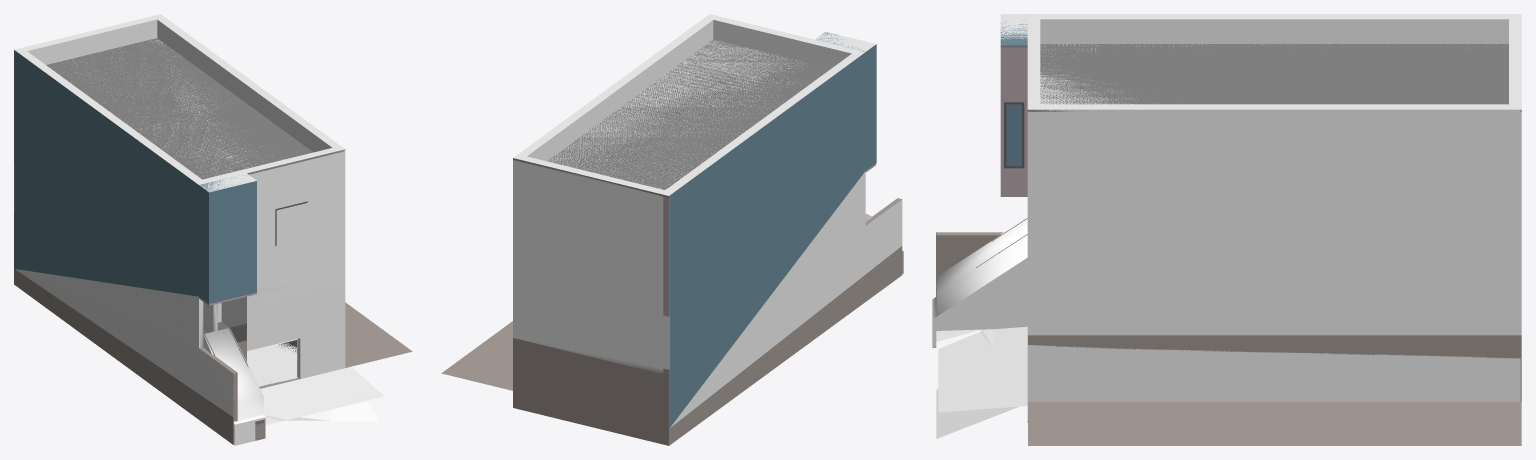
The model's file is s_otb_bld_inst_013.dae.
3 views of the same model, side by side, from view 1: azimuth 30°, elevation 25°; view 2: azimuth 150°, elevation 25°; view 3: azimuth 270°, elevation 25° (orthographic). The views are drawn at different scales.
Parts seen in each view (by area): view 1: Colmesh_s_bld_inst_013-1, s_bld_inst_013_L150, s_bld_inst_013_L500; view 2: s_bld_inst_013_L150, Colmesh_s_bld_inst_013-1, s_bld_inst_013_L500; view 3: s_bld_inst_013_L150, Colmesh_s_bld_inst_013-1, s_bld_inst_013_L500.
Boxes of the visible parts, x1,y1,x2,y2 form: Colmesh_s_bld_inst_013-1: (14,16,384,445); s_bld_inst_013_L150: (14,14,379,444); s_bld_inst_013_L500: (14,14,412,444); s_bld_inst_013_L150: (513,14,876,445); Colmesh_s_bld_inst_013-1: (514,14,903,428); s_bld_inst_013_L500: (441,15,902,445); s_bld_inst_013_L150: (936,14,1521,438); Colmesh_s_bld_inst_013-1: (932,14,1520,420); s_bld_inst_013_L500: (934,14,1521,445).
Size of the model in its own units: 12.11 by 21.62 by 13.34.
